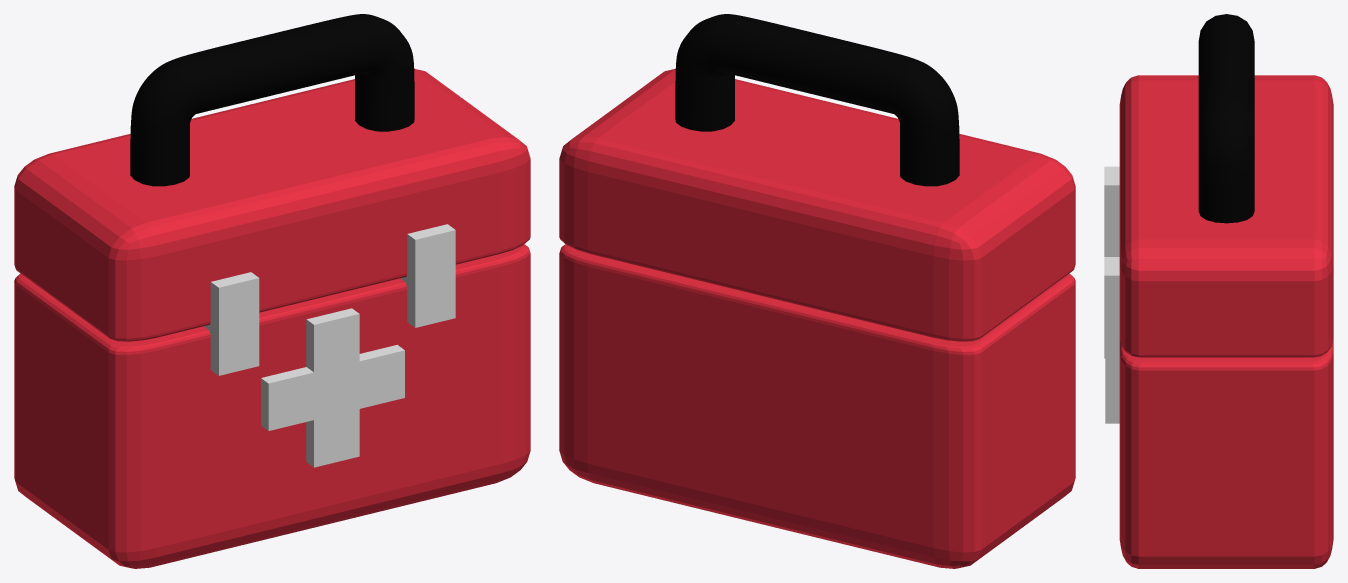
File: firstAidKit.fbx
3 renders of one model, left to right at view 1: azimuth 30°, elevation 25°; view 2: azimuth 150°, elevation 25°; view 3: azimuth 270°, elevation 25°, orthographic. The views are drawn at different scales.
Parts seen in each view (by area): view 1: FirstKit; view 2: FirstKit; view 3: FirstKit.
Part boxes in pixels (left/top/right/bottom): FirstKit: left=14, top=14, right=530, bottom=568; FirstKit: left=559, top=14, right=1075, bottom=568; FirstKit: left=1104, top=14, right=1333, bottom=568.
Bounding box in the file's own units: 180 × 185 × 90.
